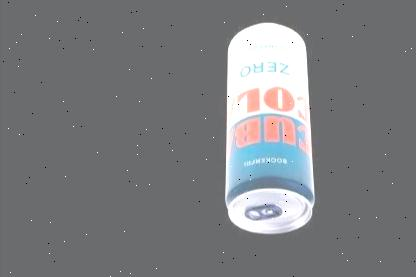Can: (223, 21, 315, 235)
